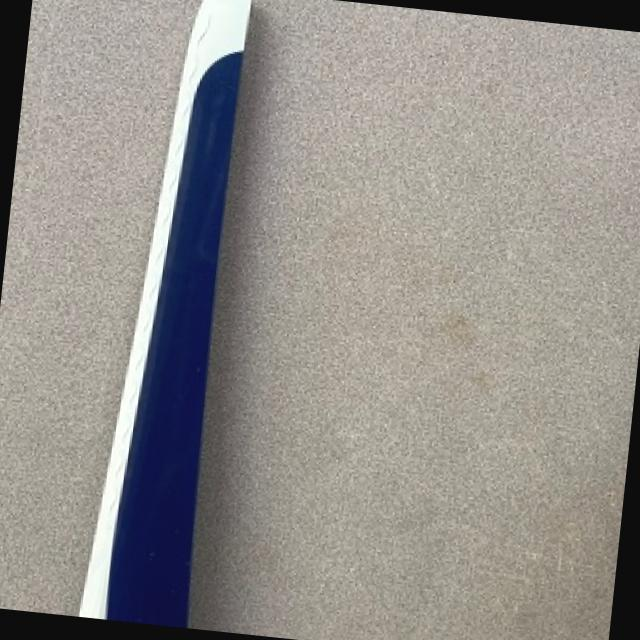healthy: (83, 0, 250, 625)
